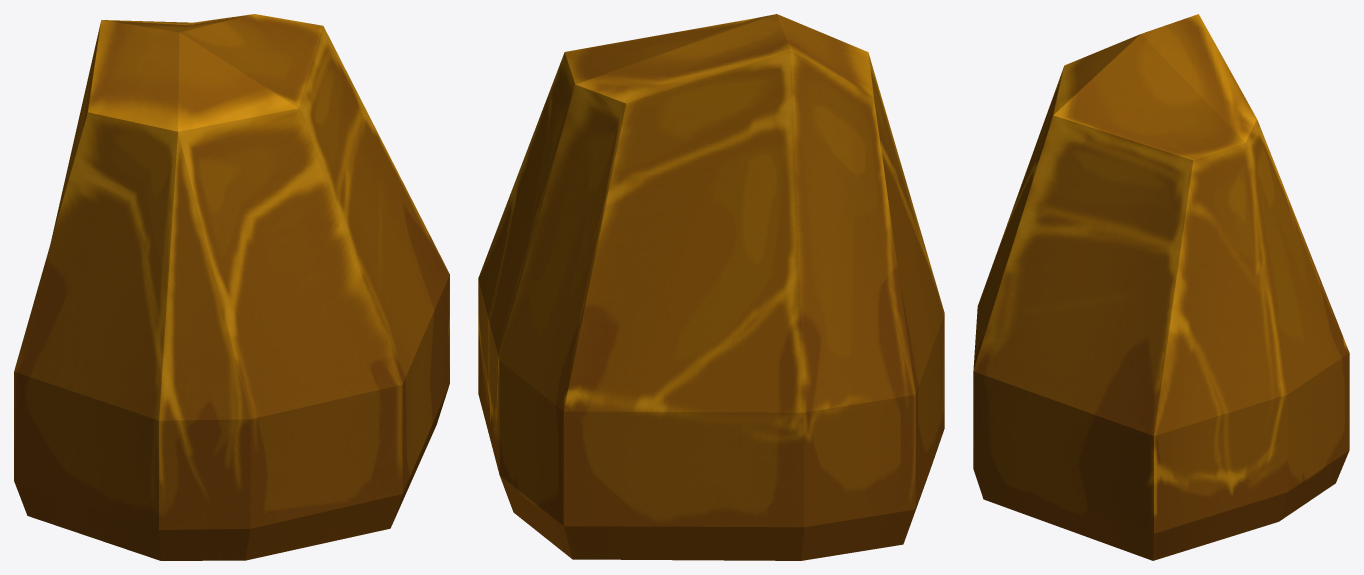
File: Rock4.FBX
The picture shows the model from 3 angles, left to right: view 1: azimuth 30°, elevation 25°; view 2: azimuth 150°, elevation 25°; view 3: azimuth 270°, elevation 25°; orthographic projection. The views are drawn at different scales.
Parts seen in each view (by area): view 1: Rock4; view 2: Rock4; view 3: Rock4.
Part boxes in pixels (x1=…): Rock4: x1=14, y1=14, x2=449, y2=560; Rock4: x1=478, y1=14, x2=944, y2=560; Rock4: x1=973, y1=14, x2=1349, y2=560.
Size of the model in its own units: 26.36 by 27.26 by 22.55.
Materials: 1 (1 with a texture image).
